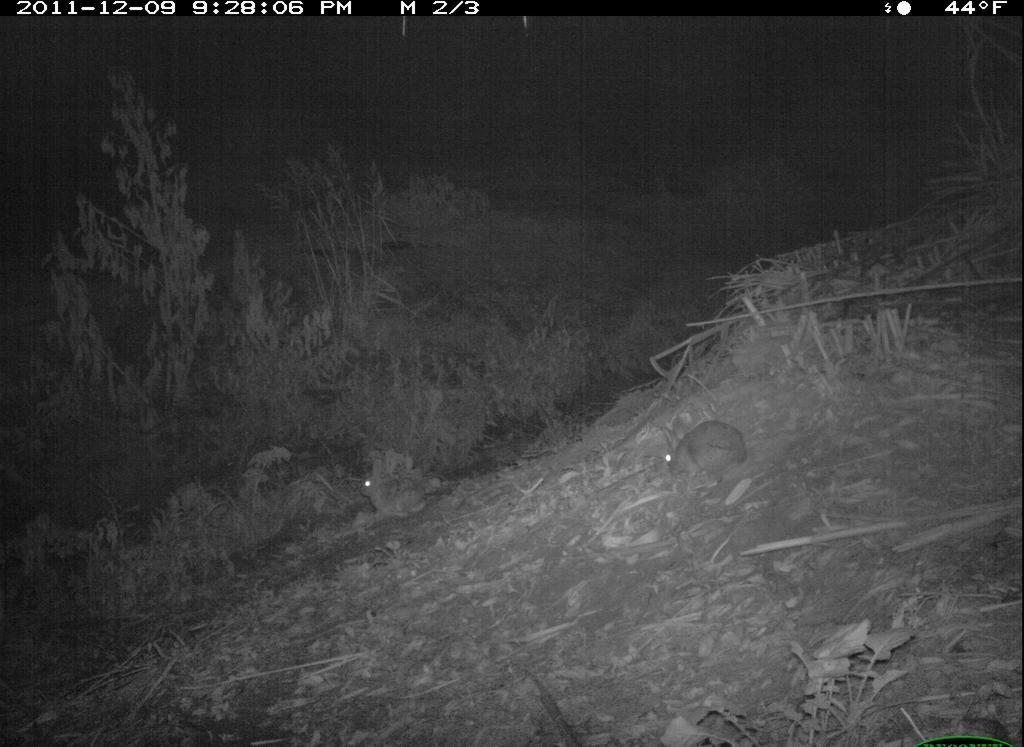rabbit: (356, 453, 435, 523)
